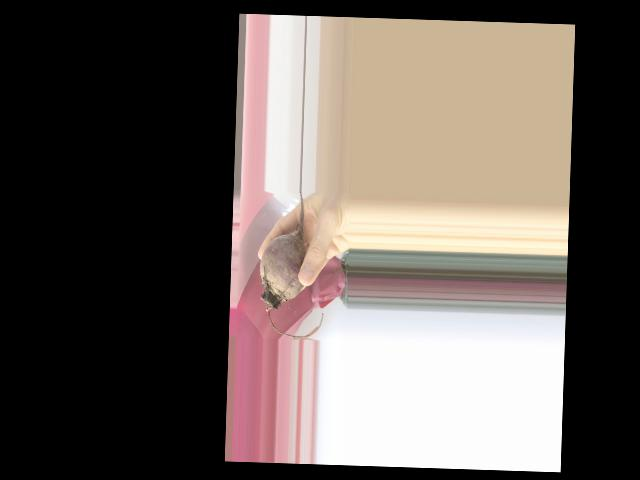beet: (257, 190, 327, 339)
